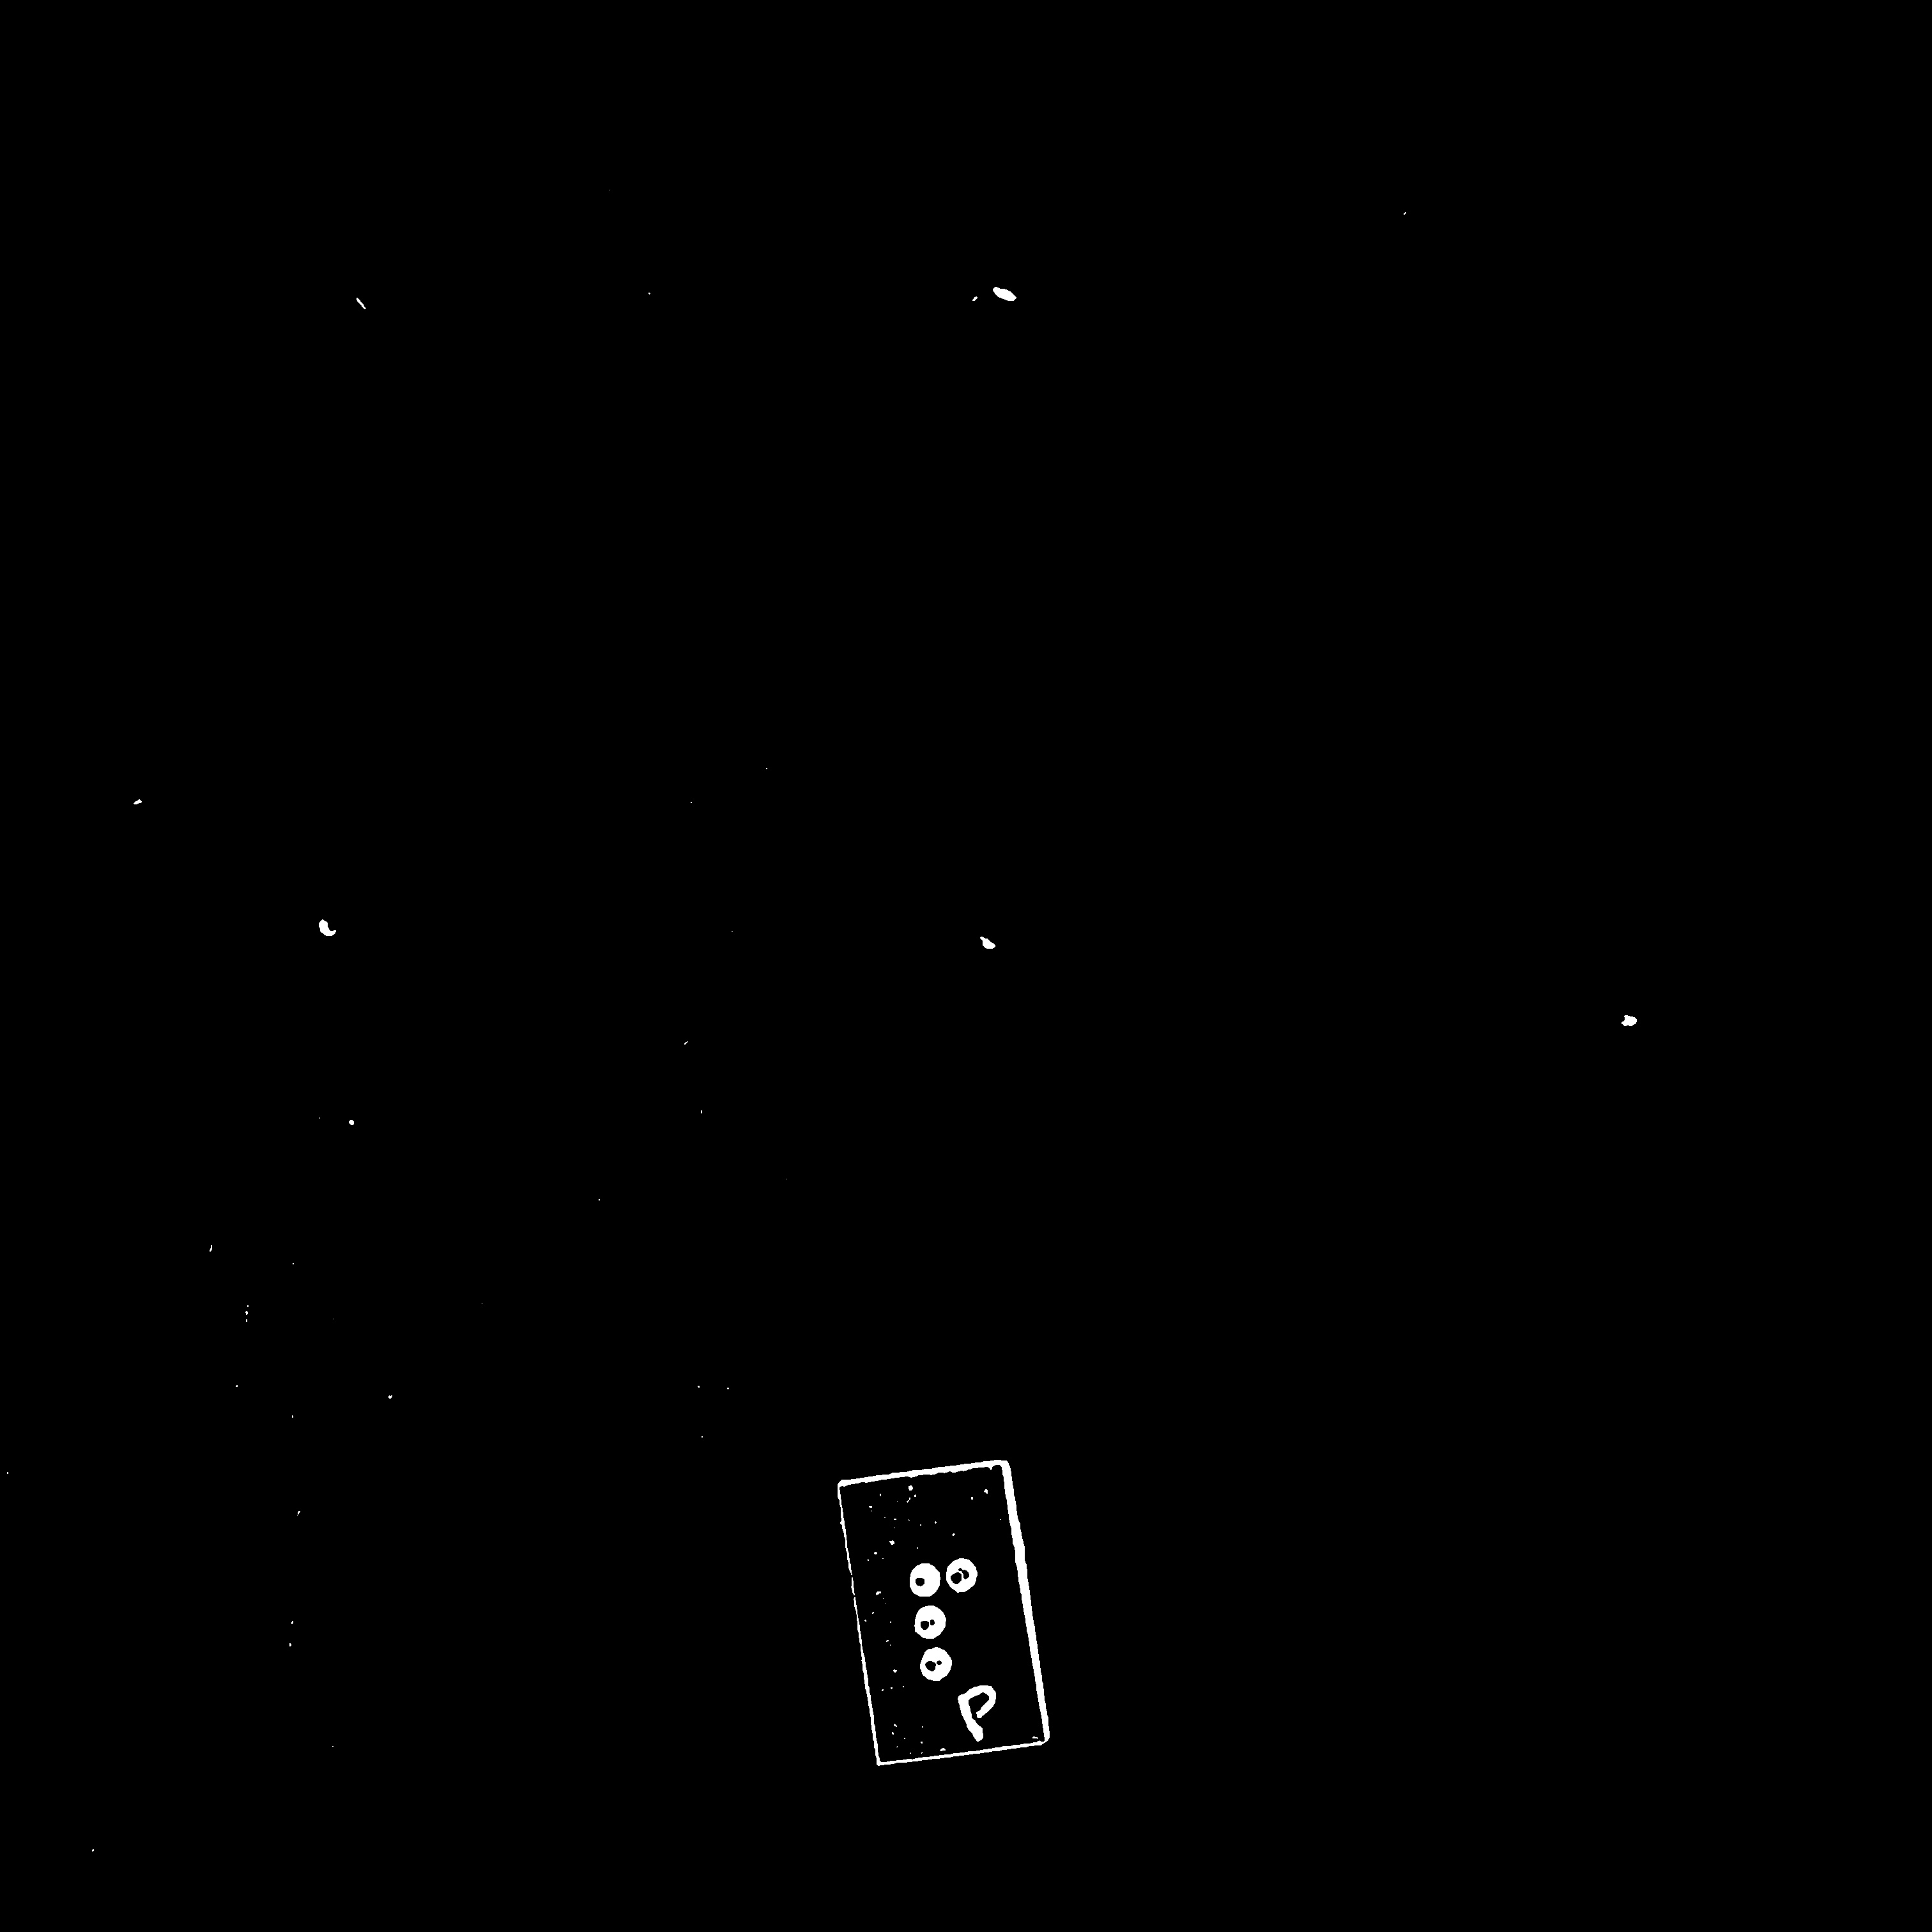p: (897, 1548, 1008, 1690)
